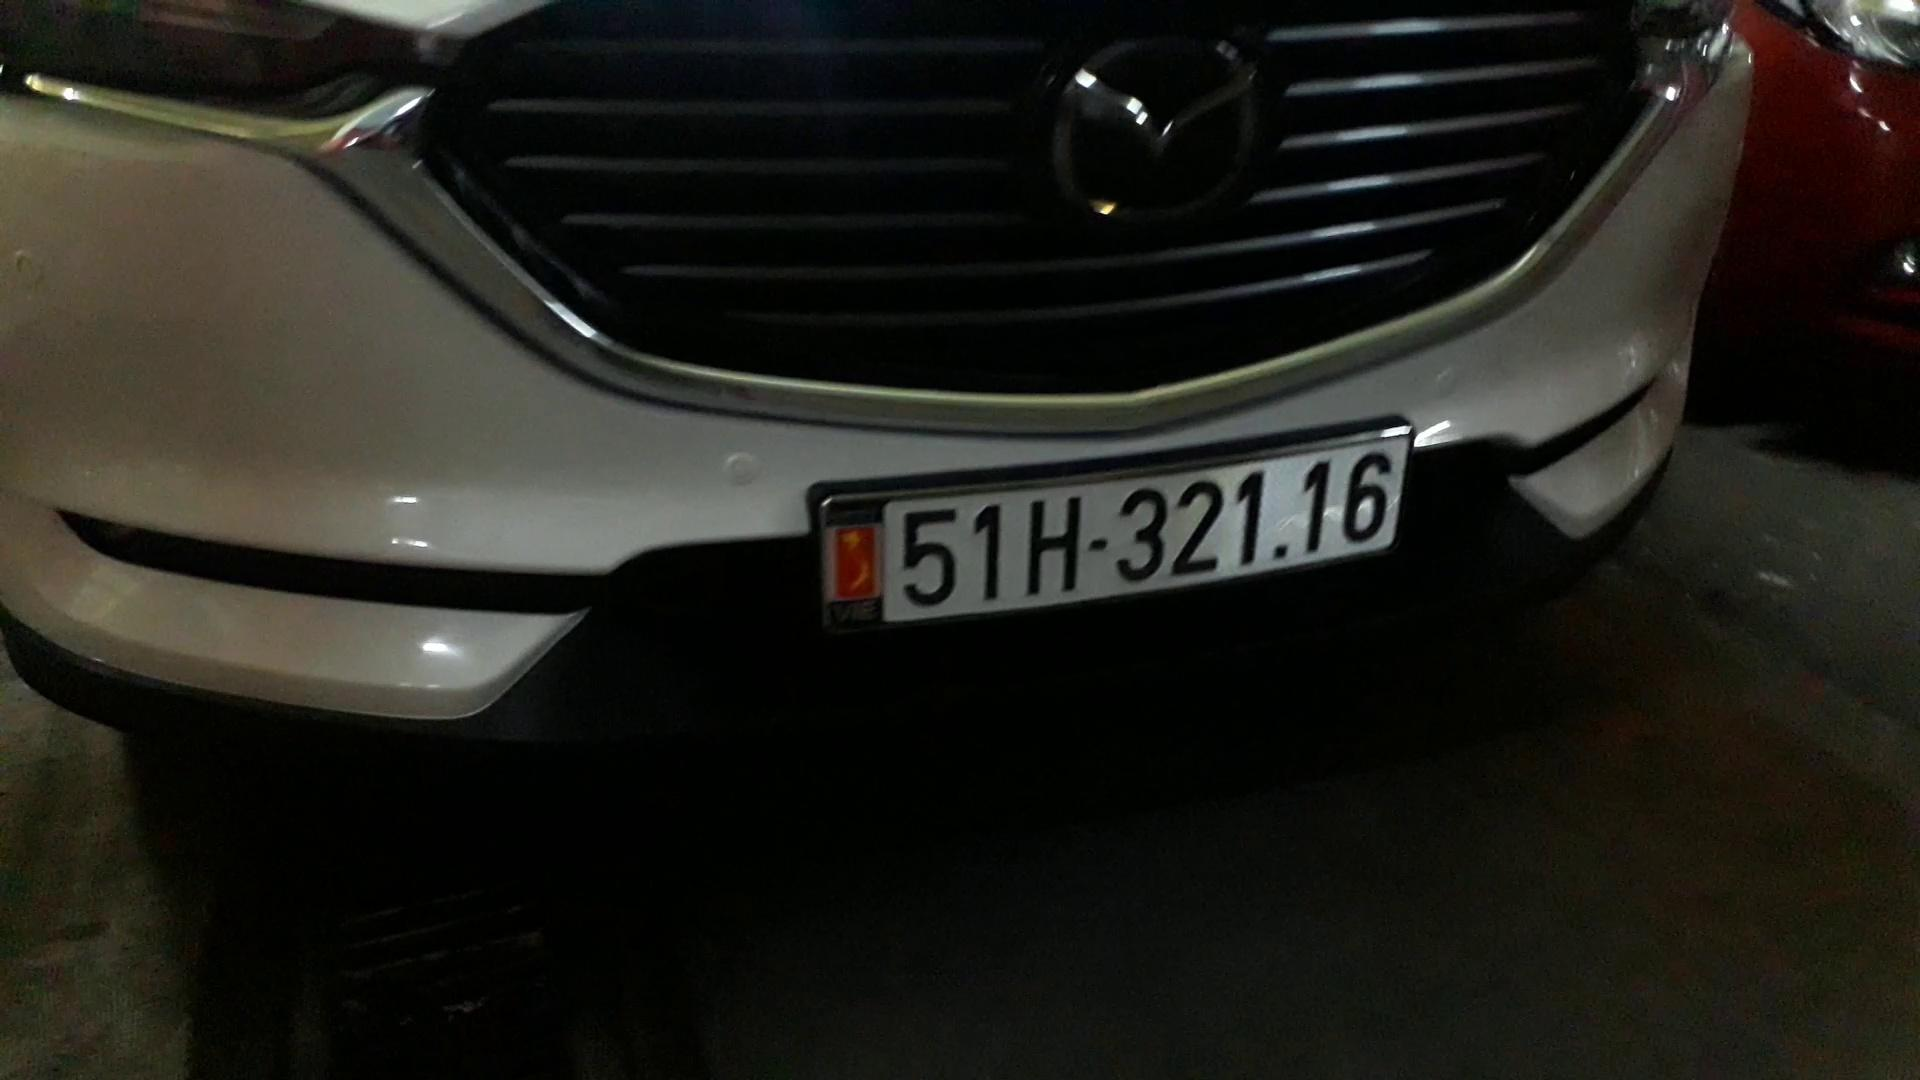numplate: (817, 421, 1461, 631)
